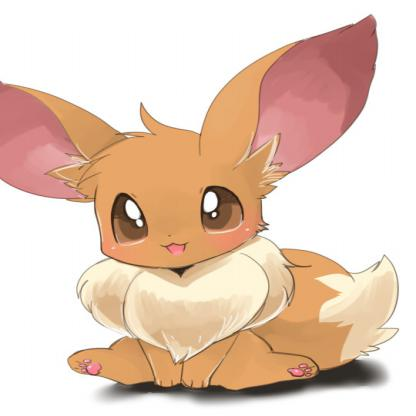Eevee: (1, 38, 416, 394)
